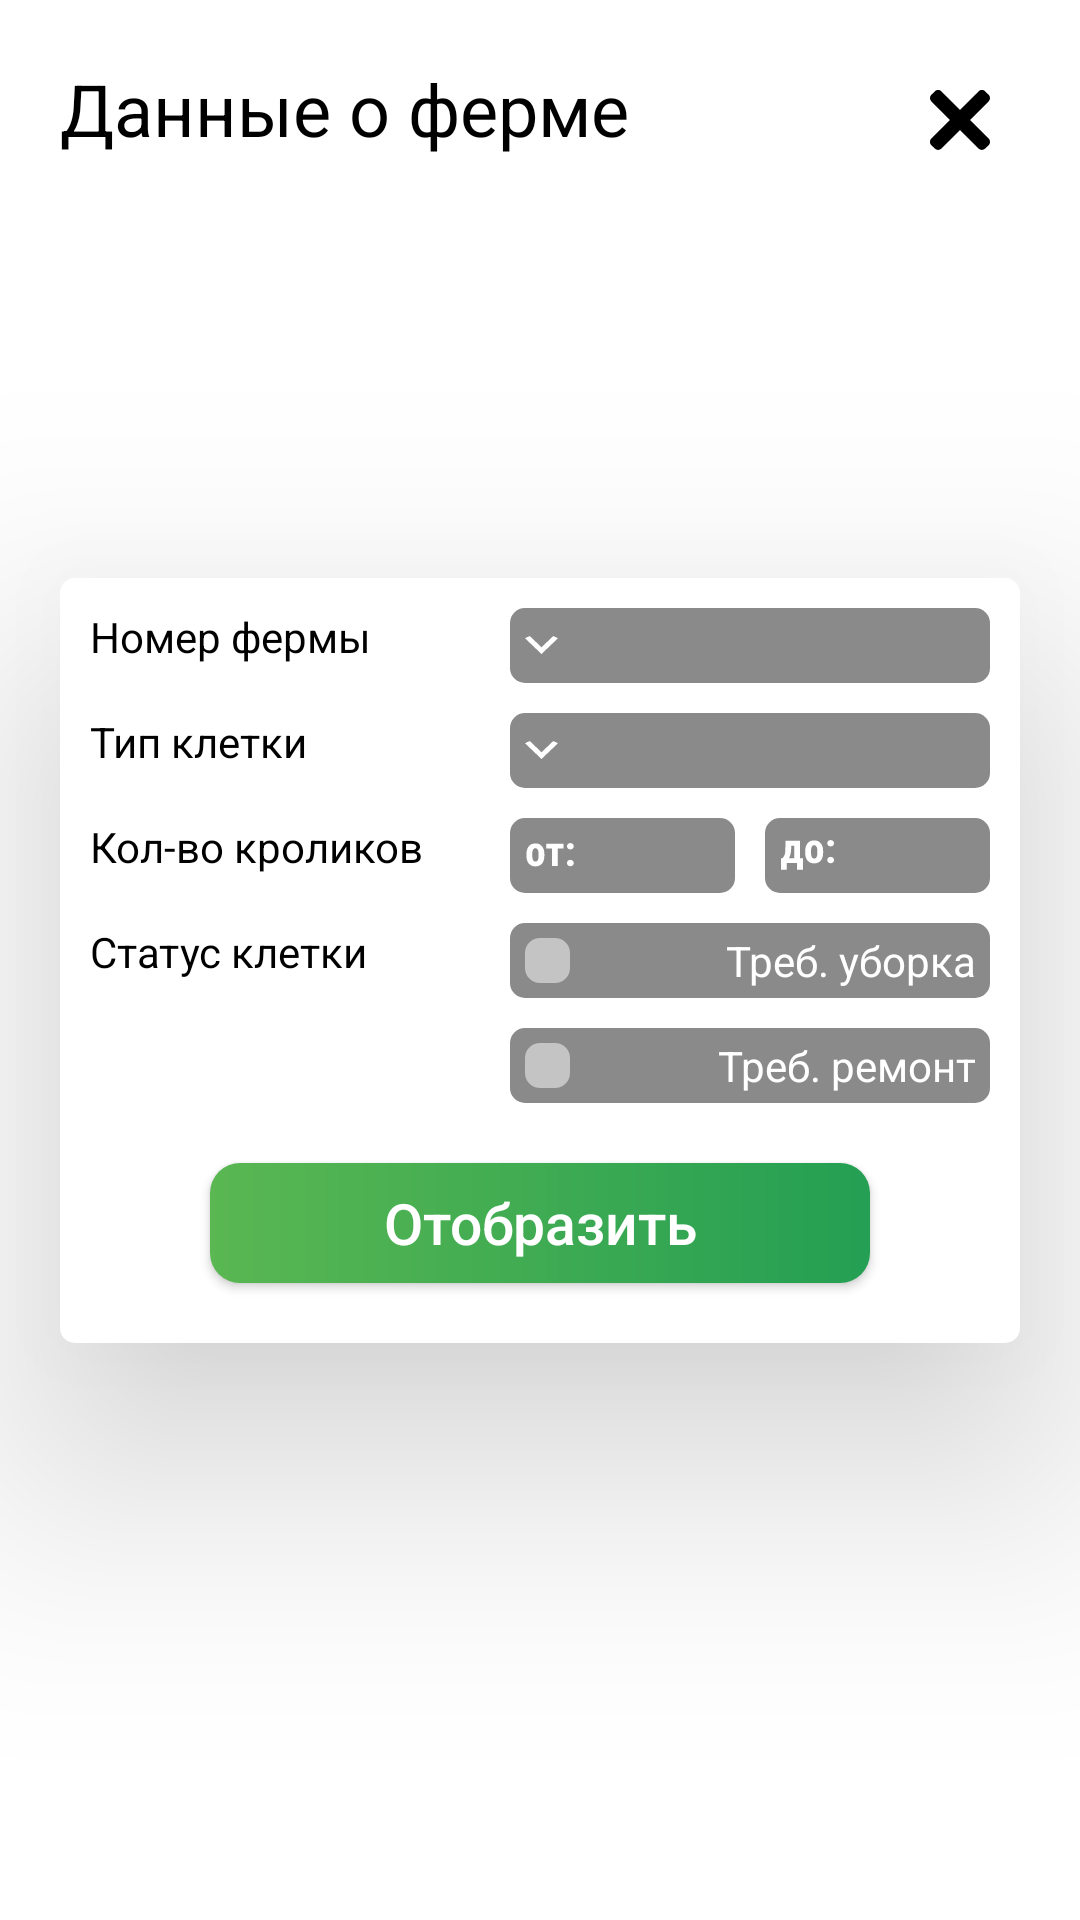

Named icons in this screenshot (1080px×1920px) and their centers, (x=x, y=y):
close menu: (x=960, y=120)
